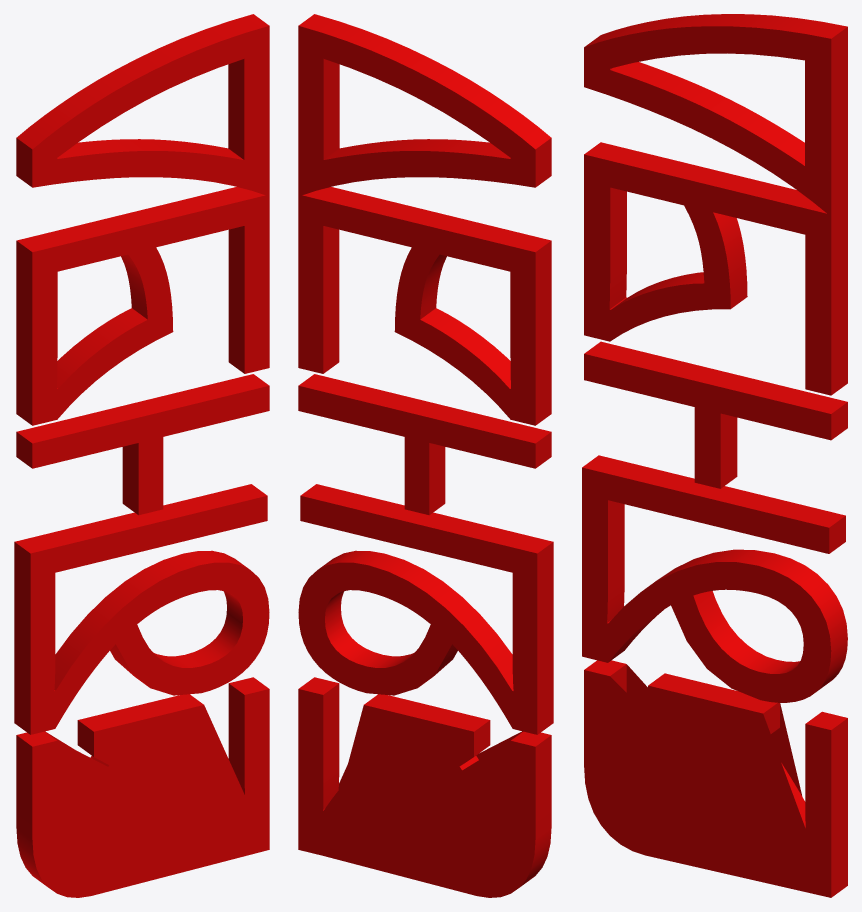
Rendered from Text_sign_9.fbx.
3 views of the same model, side by side, from view 1: azimuth 30°, elevation 25°; view 2: azimuth 150°, elevation 25°; view 3: azimuth 330°, elevation 25° (orthographic). The views are drawn at different scales.
Visible parts, largest first — view 1: Text_sign_9; view 2: Text_sign_9; view 3: Text_sign_9.
Boxes of the visible parts, x1,y1,x2,y2 form: Text_sign_9: (14,14,269,897); Text_sign_9: (298,14,553,897); Text_sign_9: (582,14,847,897).
Size of the model in its own units: 21.68 by 71.66 by 2.52.
